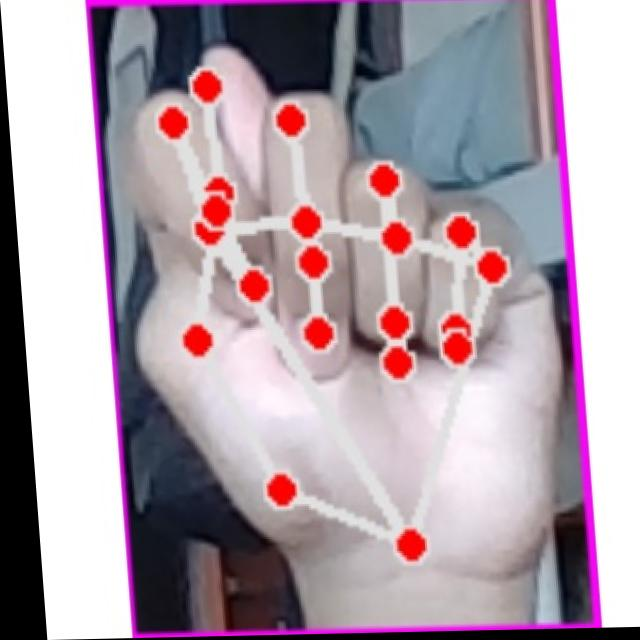T: (110, 45, 574, 610)
